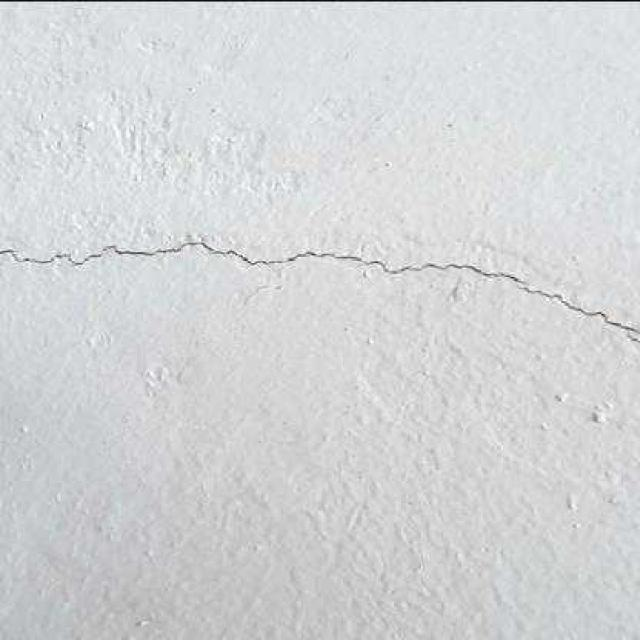D00: (0, 241, 526, 281), (517, 285, 637, 330), (626, 333, 640, 342)
